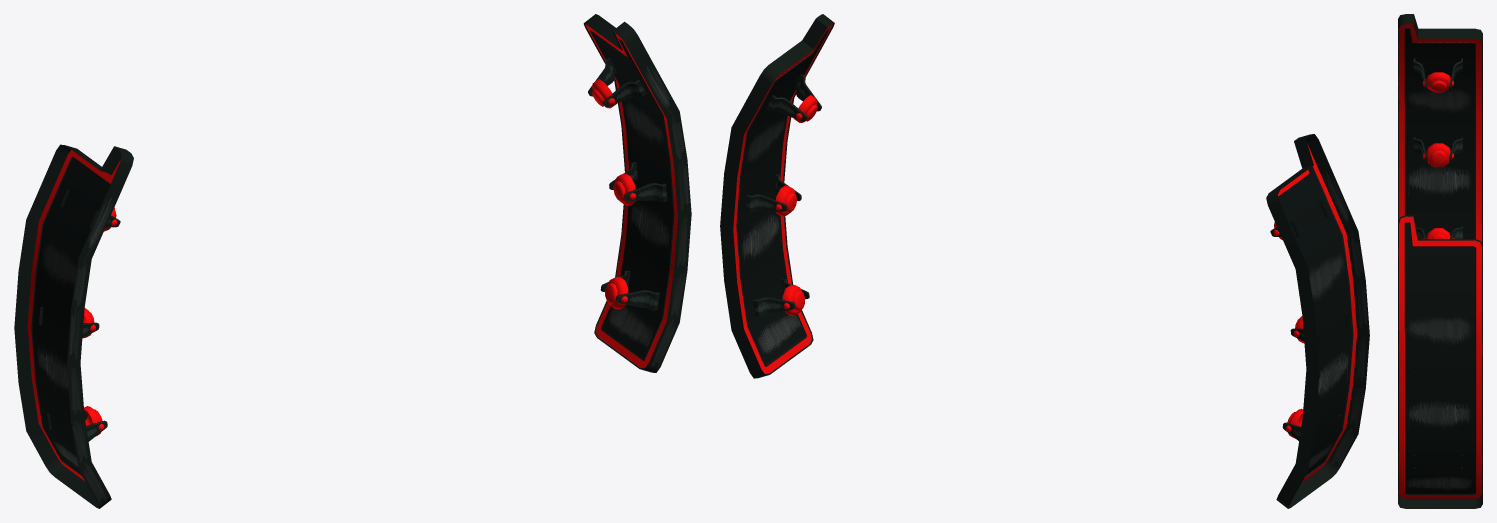
Rendered from laser_txt.dae.
The picture shows the model from 3 angles, left to right: view 1: azimuth 30°, elevation 25°; view 2: azimuth 150°, elevation 25°; view 3: azimuth 270°, elevation 25°; orthographic projection. The views are drawn at different scales.
Visible parts, largest first — view 1: Round_corridor_cyberpunk_Traps_v5, Round_corridor_cyberpunk_Traps_v5_fastening5, Round_corridor_cyberpunk_Traps_v5_fastening6, Round_corridor_cyberpunk_Traps_v5_fastening7; view 2: Round_corridor_cyberpunk_Traps_v5, Round_corridor_cyberpunk_Traps_v5_fastening5, Round_corridor_cyberpunk_Traps_v5_fastening6, Round_corridor_cyberpunk_Traps_v5_fastening7; view 3: Round_corridor_cyberpunk_Traps_v5, Round_corridor_cyberpunk_Traps_v5_Laser2, Round_corridor_cyberpunk_Traps_v5_Laser1, Round_corridor_cyberpunk_Traps_v5_fastening2, Round_corridor_cyberpunk_Traps_v5_fastening1, Round_corridor_cyberpunk_Traps_v5_fastening3, Round_corridor_cyberpunk_Traps_v5_Laser3.
Part boxes in pixels (x1,y1,x2,y2): Round_corridor_cyberpunk_Traps_v5: [14, 14, 691, 508]; Round_corridor_cyberpunk_Traps_v5_fastening5: [588, 58, 646, 107]; Round_corridor_cyberpunk_Traps_v5_fastening6: [609, 162, 667, 201]; Round_corridor_cyberpunk_Traps_v5_fastening7: [600, 270, 659, 310]; Round_corridor_cyberpunk_Traps_v5: [720, 14, 1369, 508]; Round_corridor_cyberpunk_Traps_v5_fastening5: [765, 74, 821, 121]; Round_corridor_cyberpunk_Traps_v5_fastening6: [745, 174, 801, 212]; Round_corridor_cyberpunk_Traps_v5_fastening7: [752, 278, 809, 316]; Round_corridor_cyberpunk_Traps_v5: [1398, 14, 1482, 508]; Round_corridor_cyberpunk_Traps_v5_Laser2: [1426, 143, 1450, 167]; Round_corridor_cyberpunk_Traps_v5_Laser1: [1426, 72, 1450, 92]; Round_corridor_cyberpunk_Traps_v5_fastening2: [1413, 137, 1462, 161]; Round_corridor_cyberpunk_Traps_v5_fastening1: [1413, 58, 1462, 89]; Round_corridor_cyberpunk_Traps_v5_fastening3: [1416, 226, 1462, 238]; Round_corridor_cyberpunk_Traps_v5_Laser3: [1426, 228, 1450, 238].
Size of the model in its own units: 15.98 by 2.33 by 8.63.
Materials: 2 (2 with a texture image).
